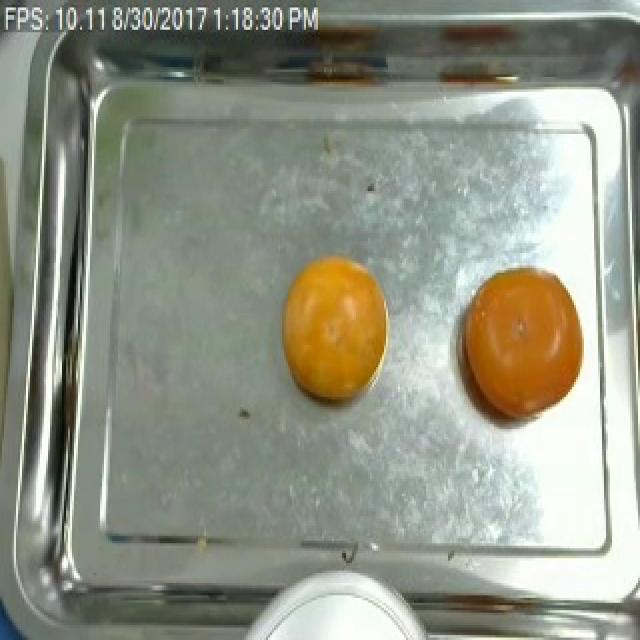Fruit: (448, 256, 592, 434), (272, 246, 396, 417)
